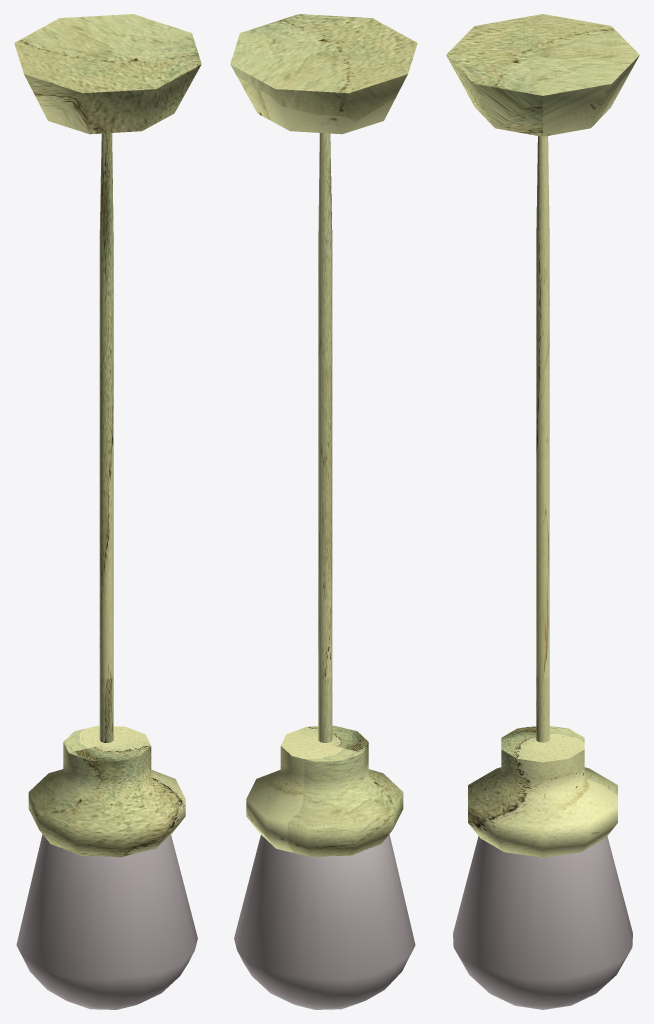
Rendered from lightbulbfinal.obj.
3 views of the same model, side by side, from view 1: azimuth 30°, elevation 25°; view 2: azimuth 150°, elevation 25°; view 3: azimuth 270°, elevation 25° (orthographic).
Parts seen in each view (by area): view 1: Plastic, Bulb; view 2: Plastic, Bulb; view 3: Plastic, Bulb.
Boxes of the visible parts, x1=… form: Plastic: x1=14, y1=14, x2=201, y2=857; Bulb: x1=16, y1=834, x2=197, y2=1009; Plastic: x1=230, y1=14, x2=417, y2=857; Bulb: x1=234, y1=834, x2=415, y2=1009; Plastic: x1=446, y1=14, x2=639, y2=857; Bulb: x1=453, y1=836, x2=632, y2=1009.
Size of the model in its own units: 32.57 by 176 by 32.57.
2 materials, 2 textured.
